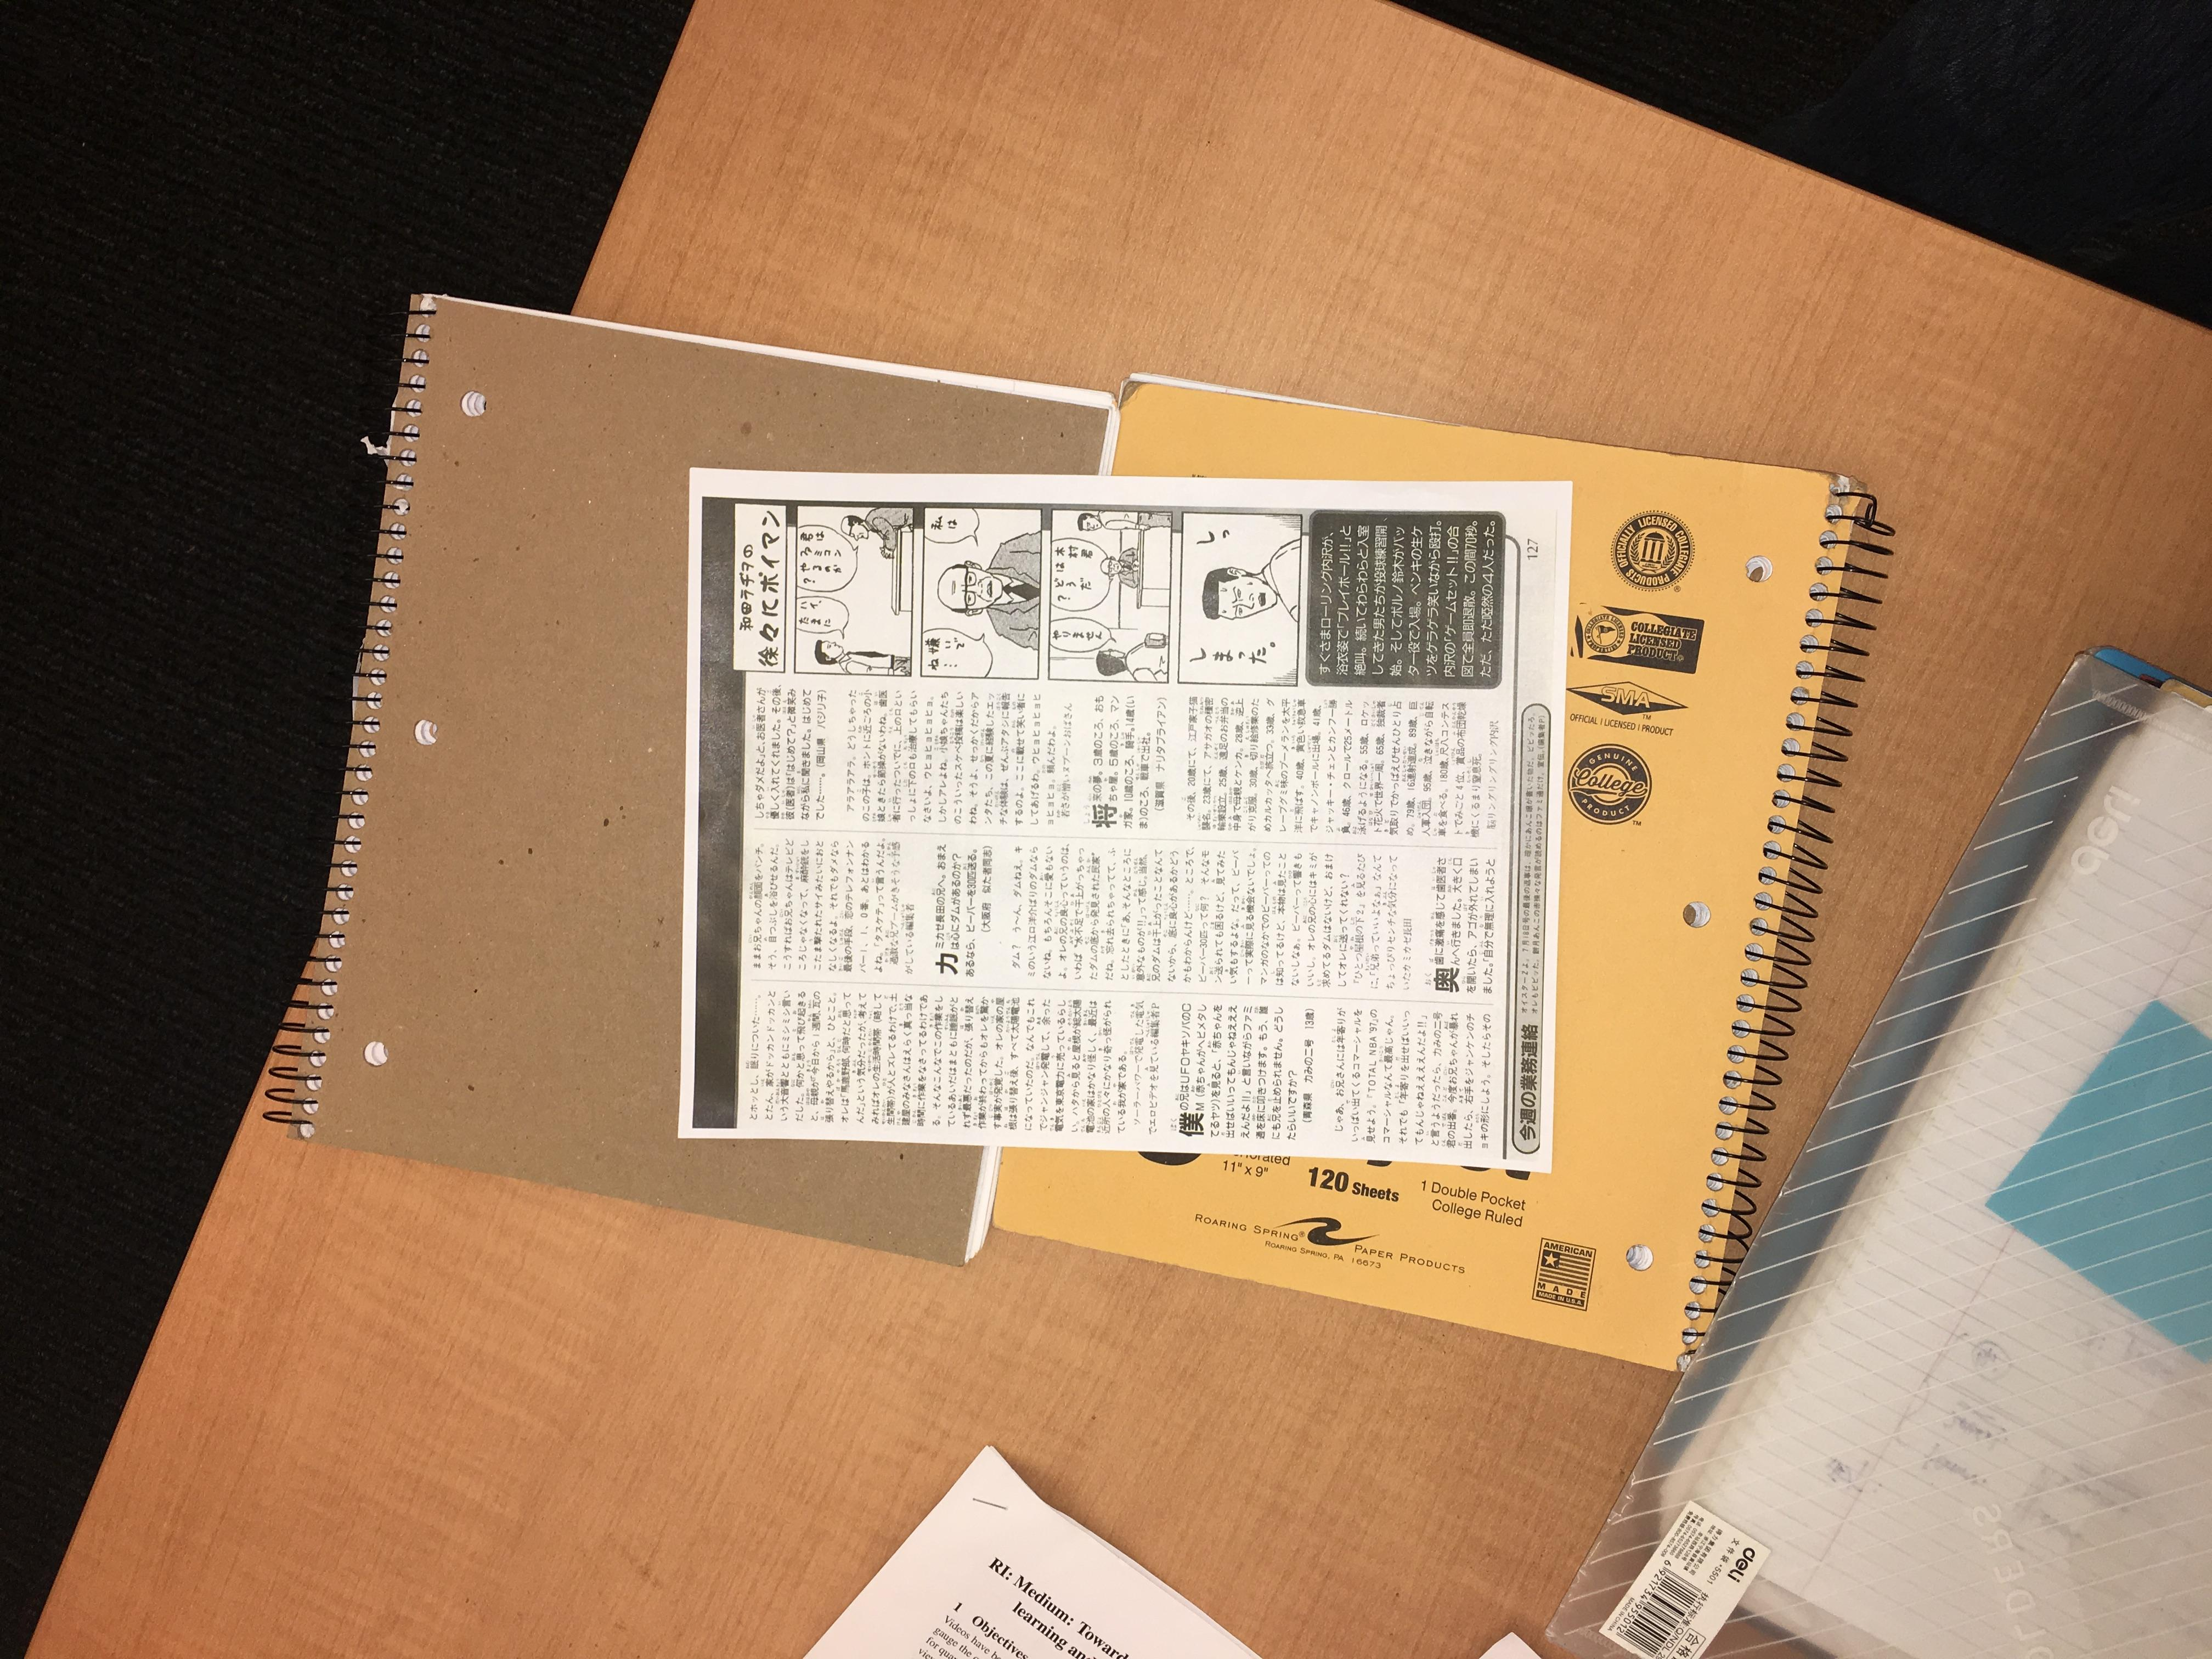paper: (472, 371, 1843, 1307)
